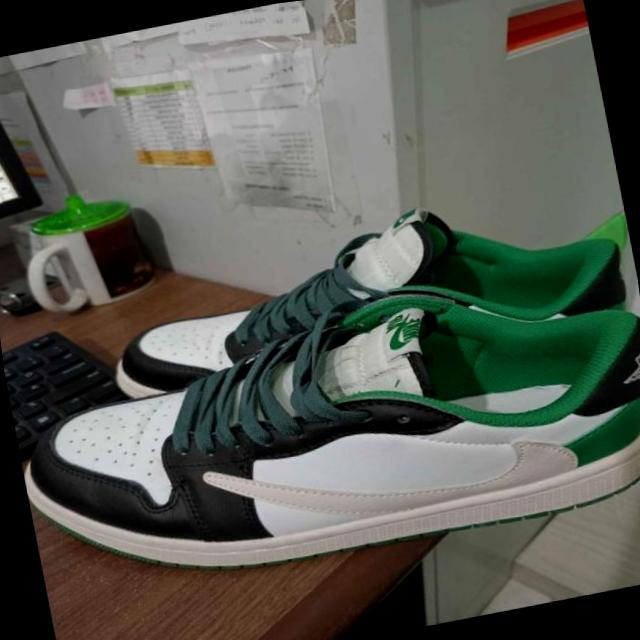nike_fake_jordan: (0, 243, 640, 612), (88, 168, 640, 420)
